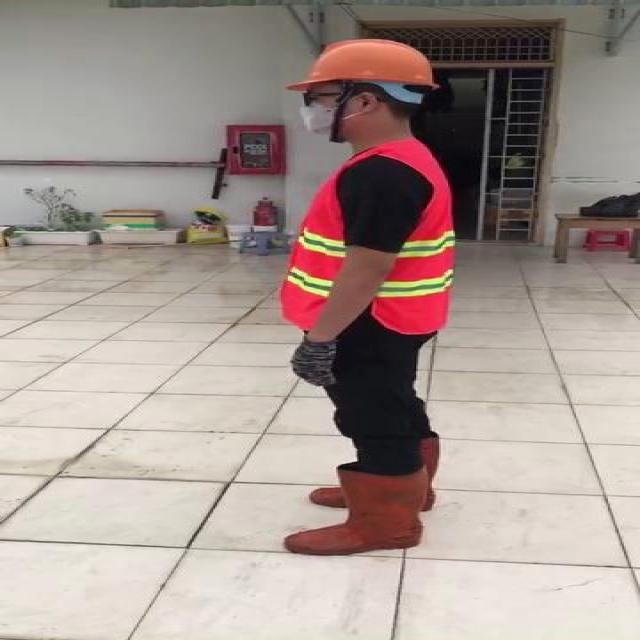boots: (281, 466, 427, 555)
face_mask: (294, 88, 355, 136)
hand_glove: (270, 341, 343, 387)
head_helmet: (286, 37, 441, 93)
person: (260, 40, 468, 562)
vest: (279, 143, 459, 340)
